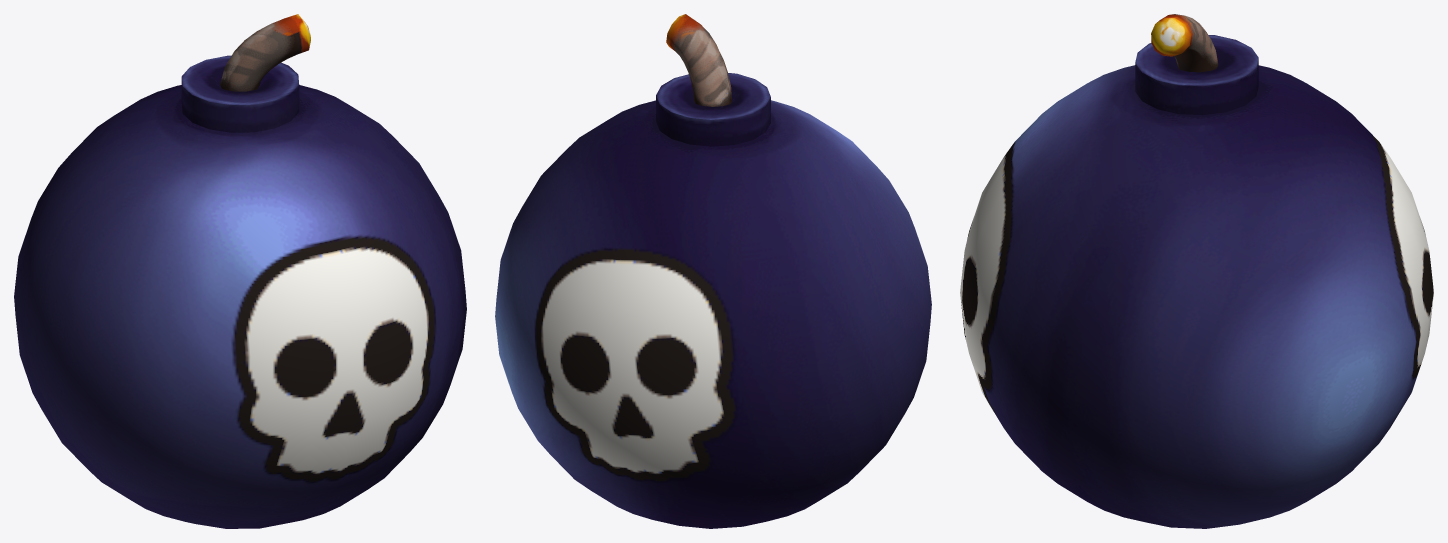
The model's file is Bomb.FBX.
3 renders of one model, left to right at view 1: azimuth 30°, elevation 25°; view 2: azimuth 150°, elevation 25°; view 3: azimuth 270°, elevation 25°, orthographic. The views are drawn at different scales.
Parts seen in each view (by area): view 1: Bomb; view 2: Bomb; view 3: Bomb.
Part boxes in pixels (box(x1,y1,x2,y2)): Bomb: box(14, 14, 466, 528); Bomb: box(495, 14, 931, 528); Bomb: box(960, 14, 1433, 528).
Bounding box in the file's own units: 365 × 435 × 365.
